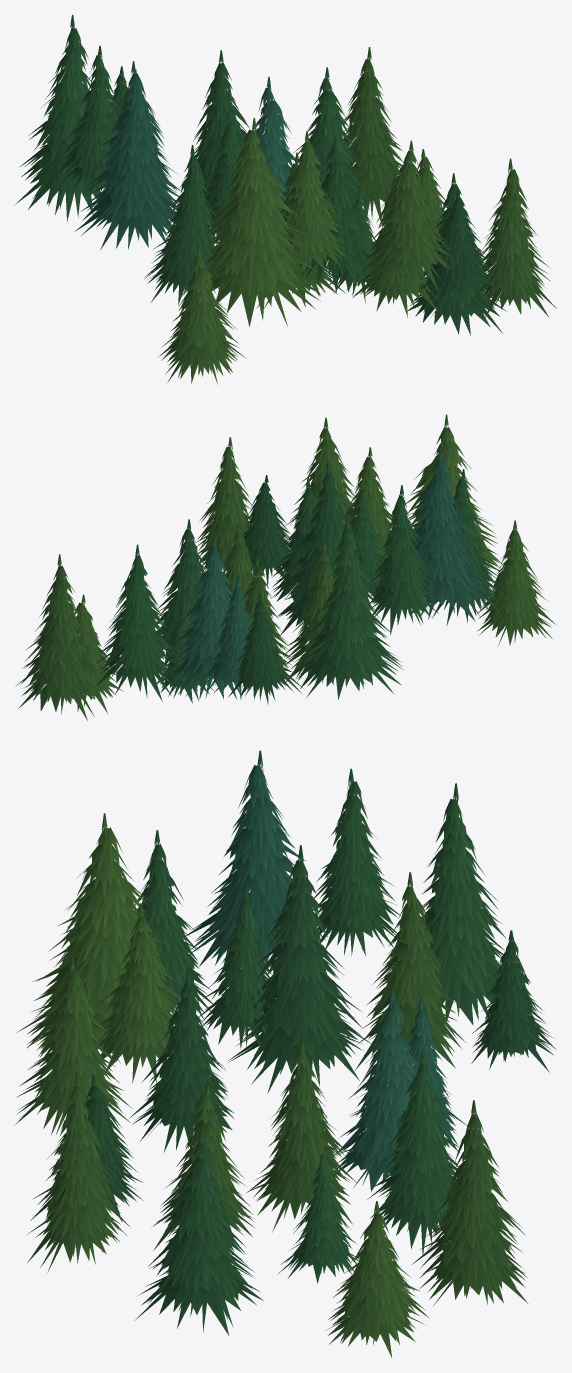
File: pine_5.glb
3 views of the same model, one above another, from view 1: azimuth 30°, elevation 25°; view 2: azimuth 150°, elevation 25°; view 3: azimuth 270°, elevation 25° (orthographic). The views are drawn at different scales.
Visible parts, largest first — view 1: pine_5; view 2: pine_5; view 3: pine_5.
Part boxes in pixels (x1,y1,x2,y2): pine_5: [14, 15, 556, 384]; pine_5: [15, 414, 555, 720]; pine_5: [14, 750, 555, 1358].
Bounding box in the file's own units: 34.17 × 24.48 × 31.08.
Materials: 1 (1 with a texture image).
